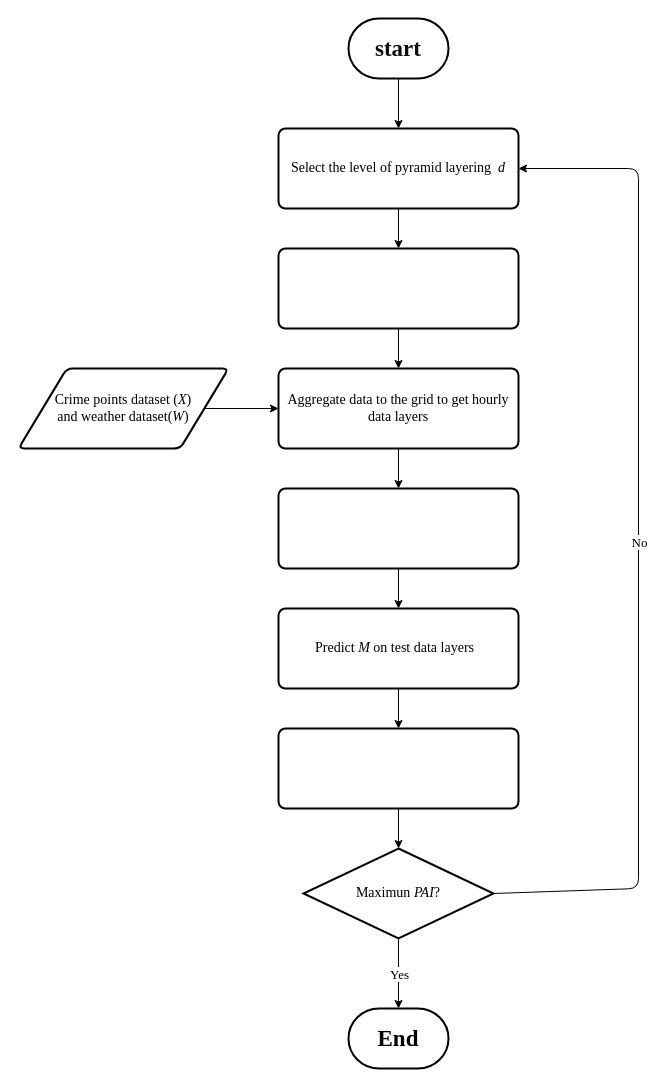
Some shapes in this 664 by 1086 pixel diagram are drawn without their labels. Each missing label, with the centre of its shape:
Calculate PAI: point (398, 768)
Decretize the space into grid cells: point (398, 288)
Fit the ST-ResNet moel M using training data layers: point (398, 528)
